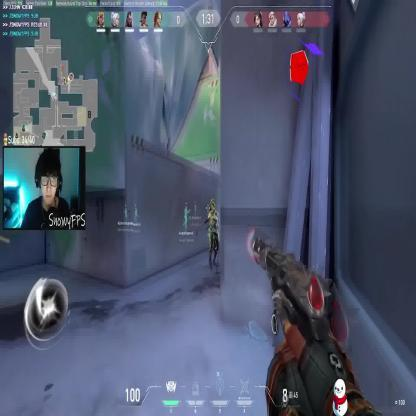enemy: (204, 196, 220, 267)
enemy_head: (209, 199, 216, 211)
